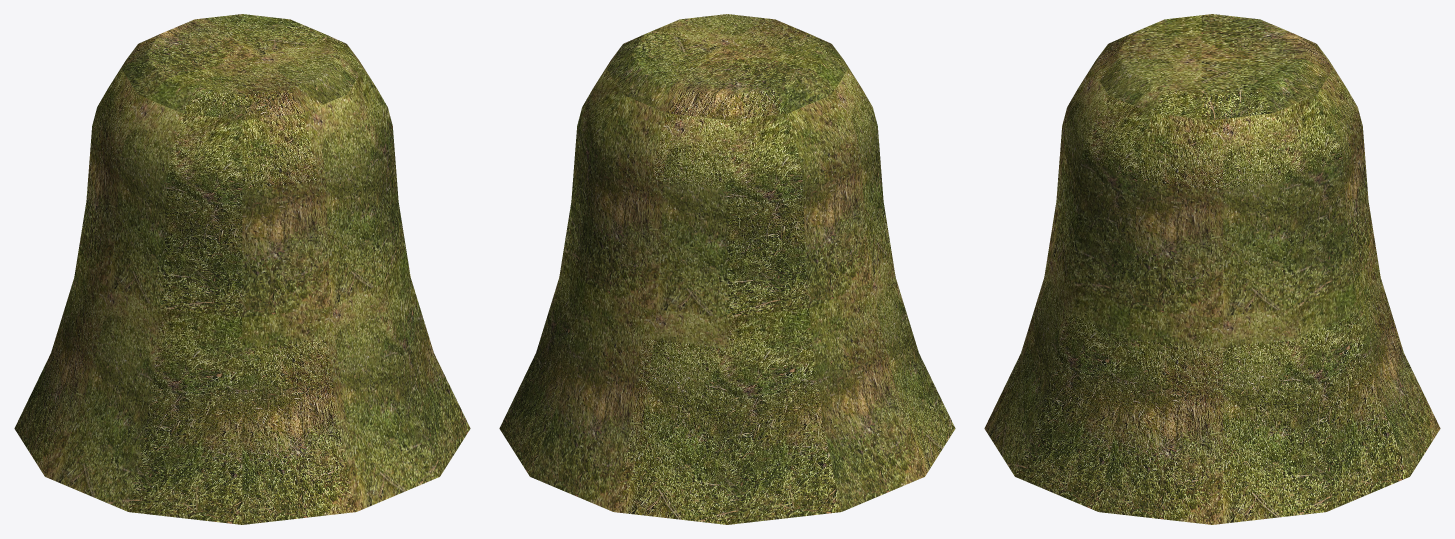
Rendered from colina3.fbx.
3 views of the same model, side by side, from view 1: azimuth 30°, elevation 25°; view 2: azimuth 150°, elevation 25°; view 3: azimuth 270°, elevation 25° (orthographic).
Visible parts, largest first — view 1: Cylinder001; view 2: Cylinder001; view 3: Cylinder001.
Part boxes in pixels (<box>): Cylinder001: <box>14,14,470,524</box>; Cylinder001: <box>499,14,955,524</box>; Cylinder001: <box>984,14,1440,524</box>.
Bounding box in the file's own units: 50 × 45.25 × 50.
Materials: 1 (1 with a texture image).
